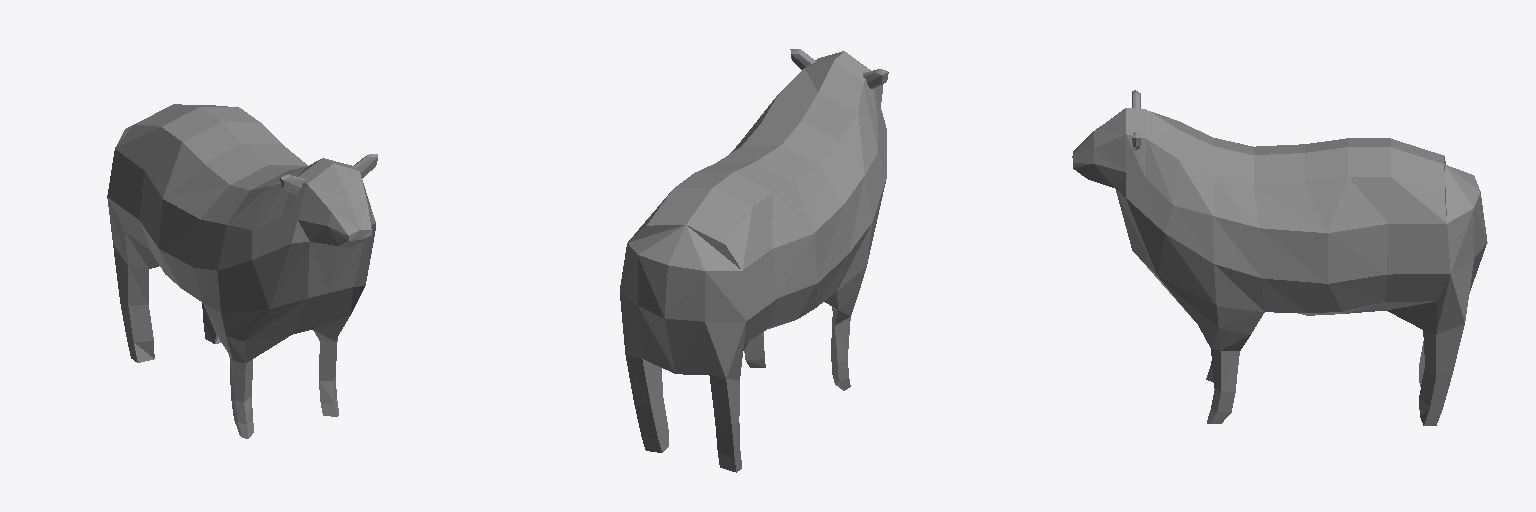
File: SM_EnemySheepOBJ.obj
3 renders of one model, left to right at view 1: azimuth 30°, elevation 25°; view 2: azimuth 150°, elevation 25°; view 3: azimuth 270°, elevation 25°, orthographic.
Parts seen in each view (by area): view 1: SM_EnemySheep; view 2: SM_EnemySheep; view 3: SM_EnemySheep.
Part boxes in pixels (x1,y1,x2,y2): SM_EnemySheep: (107, 104, 377, 438); SM_EnemySheep: (620, 49, 888, 472); SM_EnemySheep: (1072, 90, 1487, 425).
Size of the model in its own units: 18.11 by 34.95 by 44.24.